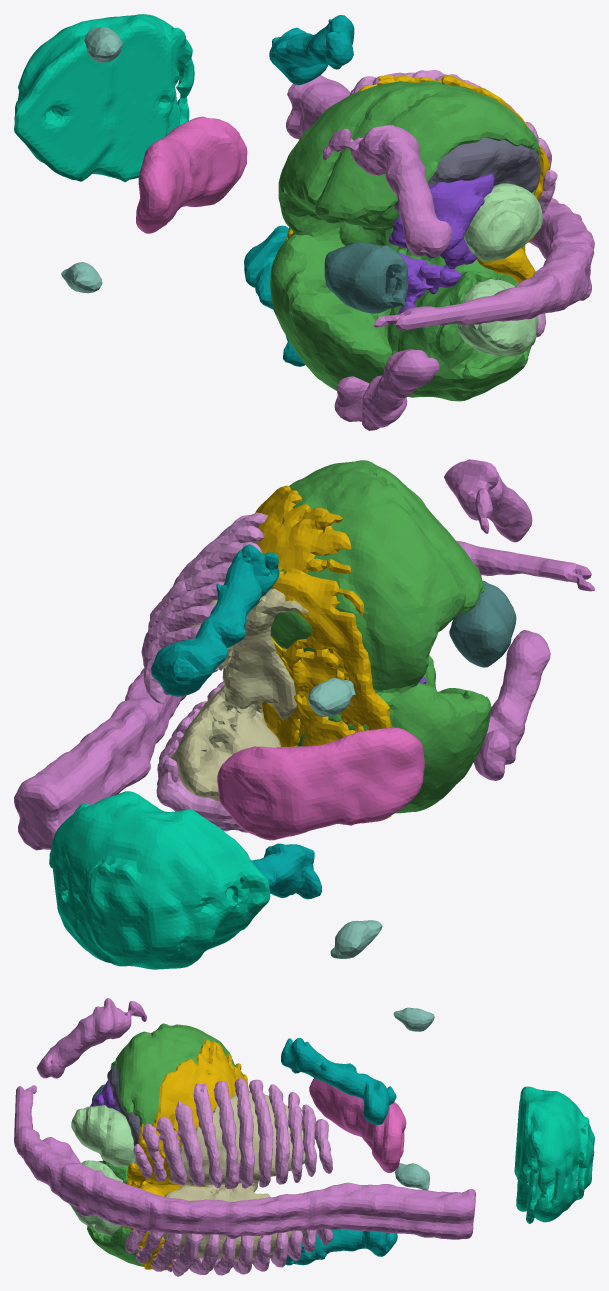
The picture shows the model from 3 angles, top to bottom: view 1: azimuth 30°, elevation 25°; view 2: azimuth 150°, elevation 25°; view 3: azimuth 270°, elevation 25°; orthographic projection. The views are drawn at different scales.
Parts seen in each view (by area): view 1: EMAPA16846, EMAPA16974, EMAPA19143, EMAPA17577, EMAPA17185, EMAPA17373, EMAPA19106, EMAPA17503, EMAPA18321, EMAPA17021, EMAPA17701, EMAPA17838 (+1 smaller); view 2: EMAPA16846, EMAPA16974, EMAPA17701, EMAPA17185, EMAPA17577, EMAPA16728, EMAPA19106, EMAPA18010, EMAPA19143, EMAPA18321, EMAPA17838; view 3: EMAPA17577, EMAPA18010, EMAPA16974, EMAPA16846, EMAPA19106, EMAPA17701, EMAPA16728, EMAPA17185, EMAPA17373, EMAPA19143, EMAPA17838, EMAPA17021 (+1 smaller).
Boxes of the visible parts, box(x1,y1,x2,y2) form: EMAPA16846: box(270, 80, 540, 401); EMAPA16974: box(14, 14, 194, 182); EMAPA19143: box(323, 125, 451, 430); EMAPA17577: box(286, 75, 594, 330); EMAPA17185: box(136, 116, 247, 233); EMAPA17373: box(457, 183, 542, 356); EMAPA19106: box(244, 15, 354, 366); EMAPA17503: box(388, 173, 494, 329); EMAPA18321: box(324, 242, 407, 313); EMAPA17021: box(394, 137, 540, 213); EMAPA17701: box(285, 75, 550, 283); EMAPA17838: box(61, 27, 122, 293); EMAPA16846: box(270, 460, 491, 813); EMAPA16974: box(49, 791, 270, 969); EMAPA17701: box(255, 485, 391, 820); EMAPA17185: box(217, 727, 424, 840); EMAPA17577: box(14, 540, 594, 850); EMAPA16728: box(171, 588, 308, 800); EMAPA19106: box(151, 544, 321, 899); EMAPA18010: box(141, 512, 267, 832); EMAPA19143: box(444, 459, 550, 780); EMAPA18321: box(449, 580, 516, 667); EMAPA17838: box(308, 678, 382, 958); EMAPA17577: box(14, 1085, 475, 1239); EMAPA18010: box(125, 1078, 333, 1276); EMAPA16974: box(514, 1086, 594, 1223); EMAPA16846: box(87, 1023, 243, 1266); EMAPA19106: box(281, 1038, 397, 1265); EMAPA17701: box(124, 1039, 249, 1270); EMAPA16728: box(163, 1091, 314, 1260); EMAPA17185: box(309, 1078, 406, 1172); EMAPA17373: box(69, 1105, 135, 1236); EMAPA19143: box(36, 998, 146, 1163); EMAPA17838: box(393, 1007, 434, 1190); EMAPA17021: box(107, 1064, 140, 1146).
Bounding box in the file's own units: 83.63 × 79.49 × 169.
